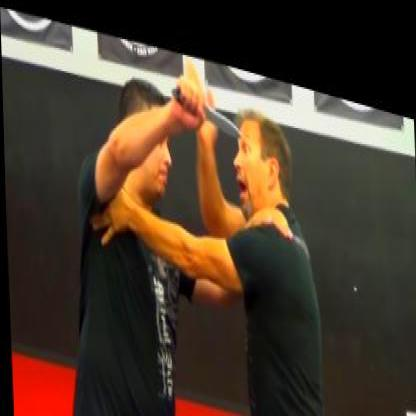knife: (168, 57, 244, 130)
